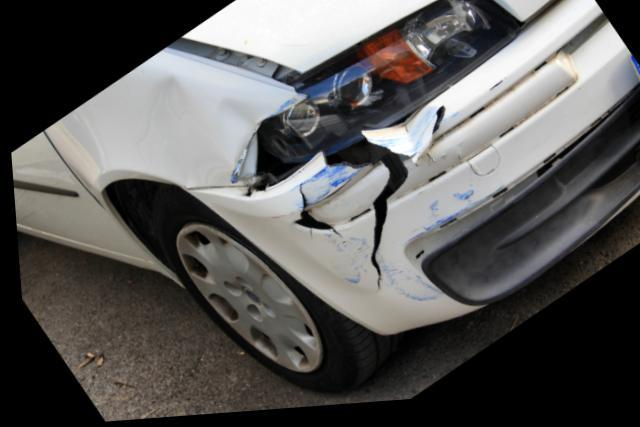crack: (318, 138, 406, 295), (290, 189, 335, 245), (427, 111, 444, 143)
dent: (131, 77, 256, 192)
dislocated part: (160, 0, 464, 97)
scratch: (400, 192, 499, 249), (374, 261, 436, 307), (317, 238, 367, 287), (297, 170, 356, 208)
